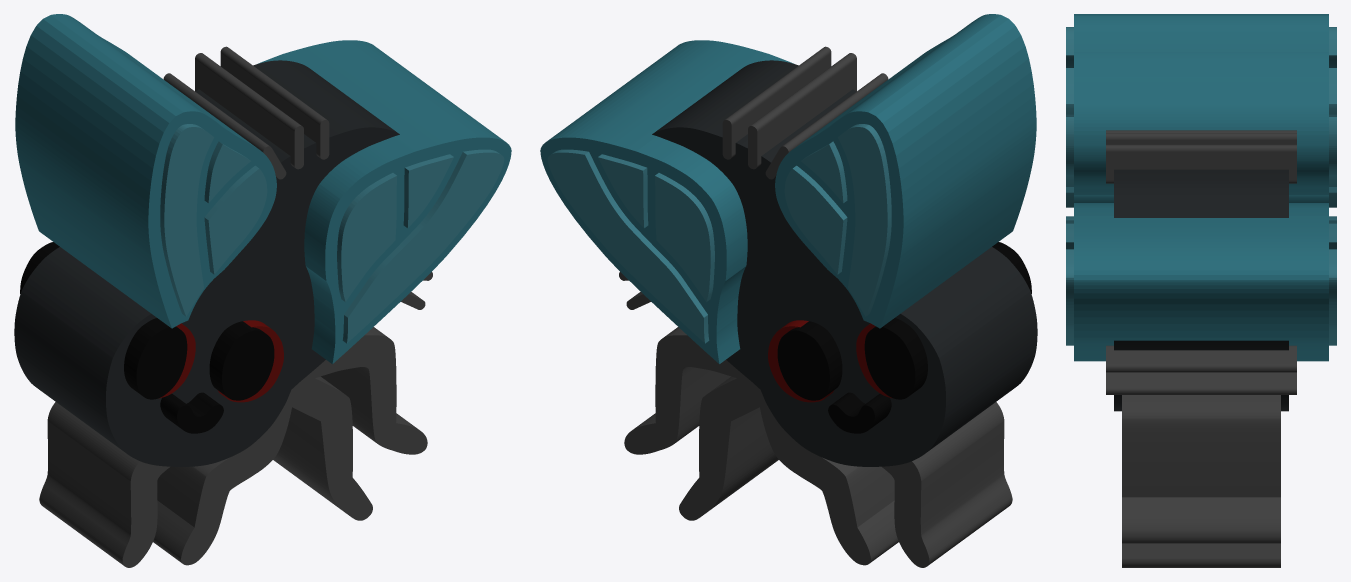
The model's file is U+1FAB0.obj.
3 renders of one model, left to right at view 1: azimuth 30°, elevation 25°; view 2: azimuth 150°, elevation 25°; view 3: azimuth 270°, elevation 25°, orthographic. The views are drawn at different scales.
Visible parts, largest first — view 1: U+1FAB0_layer01_obj00, U+1FAB0_layer06_obj00, U+1FAB0_layer06_obj01, U+1FAB0_layer00_obj00, U+1FAB0_layer00_obj02, U+1FAB0_layer07_obj02, U+1FAB0_layer07_obj05, U+1FAB0_layer07_obj03, U+1FAB0_layer04_obj01, U+1FAB0_layer02_obj00, U+1FAB0_layer04_obj00, U+1FAB0_layer07_obj00 (+6 smaller); view 2: U+1FAB0_layer01_obj00, U+1FAB0_layer06_obj00, U+1FAB0_layer06_obj01, U+1FAB0_layer00_obj00, U+1FAB0_layer00_obj02, U+1FAB0_layer07_obj02, U+1FAB0_layer07_obj05, U+1FAB0_layer07_obj03, U+1FAB0_layer04_obj01, U+1FAB0_layer02_obj00, U+1FAB0_layer04_obj00, U+1FAB0_layer07_obj00 (+6 smaller); view 3: U+1FAB0_layer06_obj00, U+1FAB0_layer06_obj01, U+1FAB0_layer00_obj00, U+1FAB0_layer01_obj00, U+1FAB0_layer02_obj02, U+1FAB0_layer02_obj04, U+1FAB0_layer02_obj03, U+1FAB0_layer02_obj00, U+1FAB0_layer07_obj02, U+1FAB0_layer07_obj00, U+1FAB0_layer07_obj05, U+1FAB0_layer07_obj04 (+2 smaller).
Part boxes in pixels (x1,y1,x2,y2): U+1FAB0_layer01_obj00: (14,60,399,466); U+1FAB0_layer06_obj00: (15,14,276,328); U+1FAB0_layer06_obj01: (258,40,511,363); U+1FAB0_layer00_obj00: (153,327,427,565); U+1FAB0_layer00_obj02: (39,402,169,567); U+1FAB0_layer07_obj02: (342,149,504,343); U+1FAB0_layer07_obj05: (160,124,213,316); U+1FAB0_layer07_obj03: (337,173,396,301); U+1FAB0_layer04_obj01: (20,242,187,399); U+1FAB0_layer02_obj00: (195,53,303,169); U+1FAB0_layer04_obj00: (209,321,274,400); U+1FAB0_layer07_obj00: (204,165,267,274); U+1FAB0_layer01_obj00: (652,60,1037,466); U+1FAB0_layer06_obj00: (775,14,1036,328); U+1FAB0_layer06_obj01: (540,40,793,363); U+1FAB0_layer00_obj00: (624,327,898,565); U+1FAB0_layer00_obj02: (882,402,1012,567); U+1FAB0_layer07_obj02: (547,149,709,343); U+1FAB0_layer07_obj05: (838,124,891,316); U+1FAB0_layer07_obj03: (655,173,714,301); U+1FAB0_layer04_obj01: (864,242,1031,399); U+1FAB0_layer02_obj00: (748,53,856,169); U+1FAB0_layer04_obj00: (777,321,842,400); U+1FAB0_layer07_obj00: (784,165,847,274); U+1FAB0_layer06_obj00: (1074,14,1328,202); U+1FAB0_layer06_obj01: (1074,203,1328,361); U+1FAB0_layer00_obj00: (1122,395,1280,567); U+1FAB0_layer01_obj00: (1114,169,1288,411); U+1FAB0_layer02_obj02: (1106,144,1296,183); U+1FAB0_layer02_obj04: (1106,345,1296,372); U+1FAB0_layer02_obj03: (1106,372,1296,394); U+1FAB0_layer02_obj00: (1106,133,1296,144); U+1FAB0_layer07_obj02: (1066,249,1336,345); U+1FAB0_layer07_obj00: (1066,117,1336,186); U+1FAB0_layer07_obj05: (1066,27,1336,207); U+1FAB0_layer07_obj04: (1066,68,1336,114).
Size of the model in its own units: 0.2673 by 0.3175 by 0.17.
